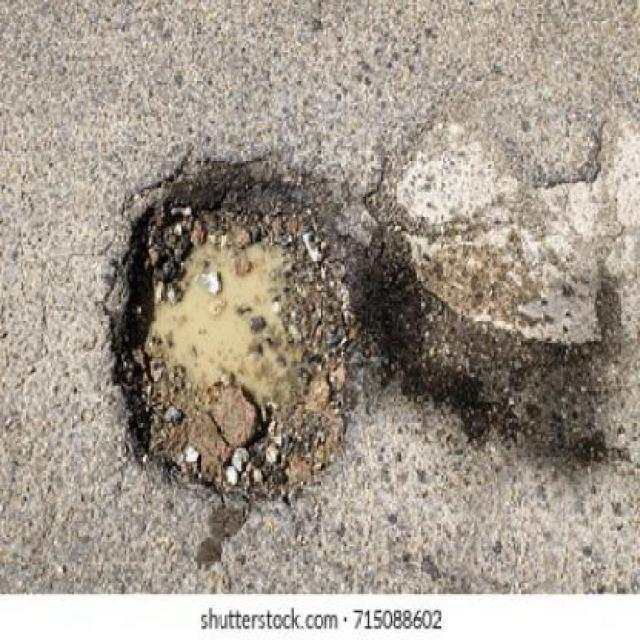Pothole: (361, 111, 640, 464), (112, 162, 356, 498)
